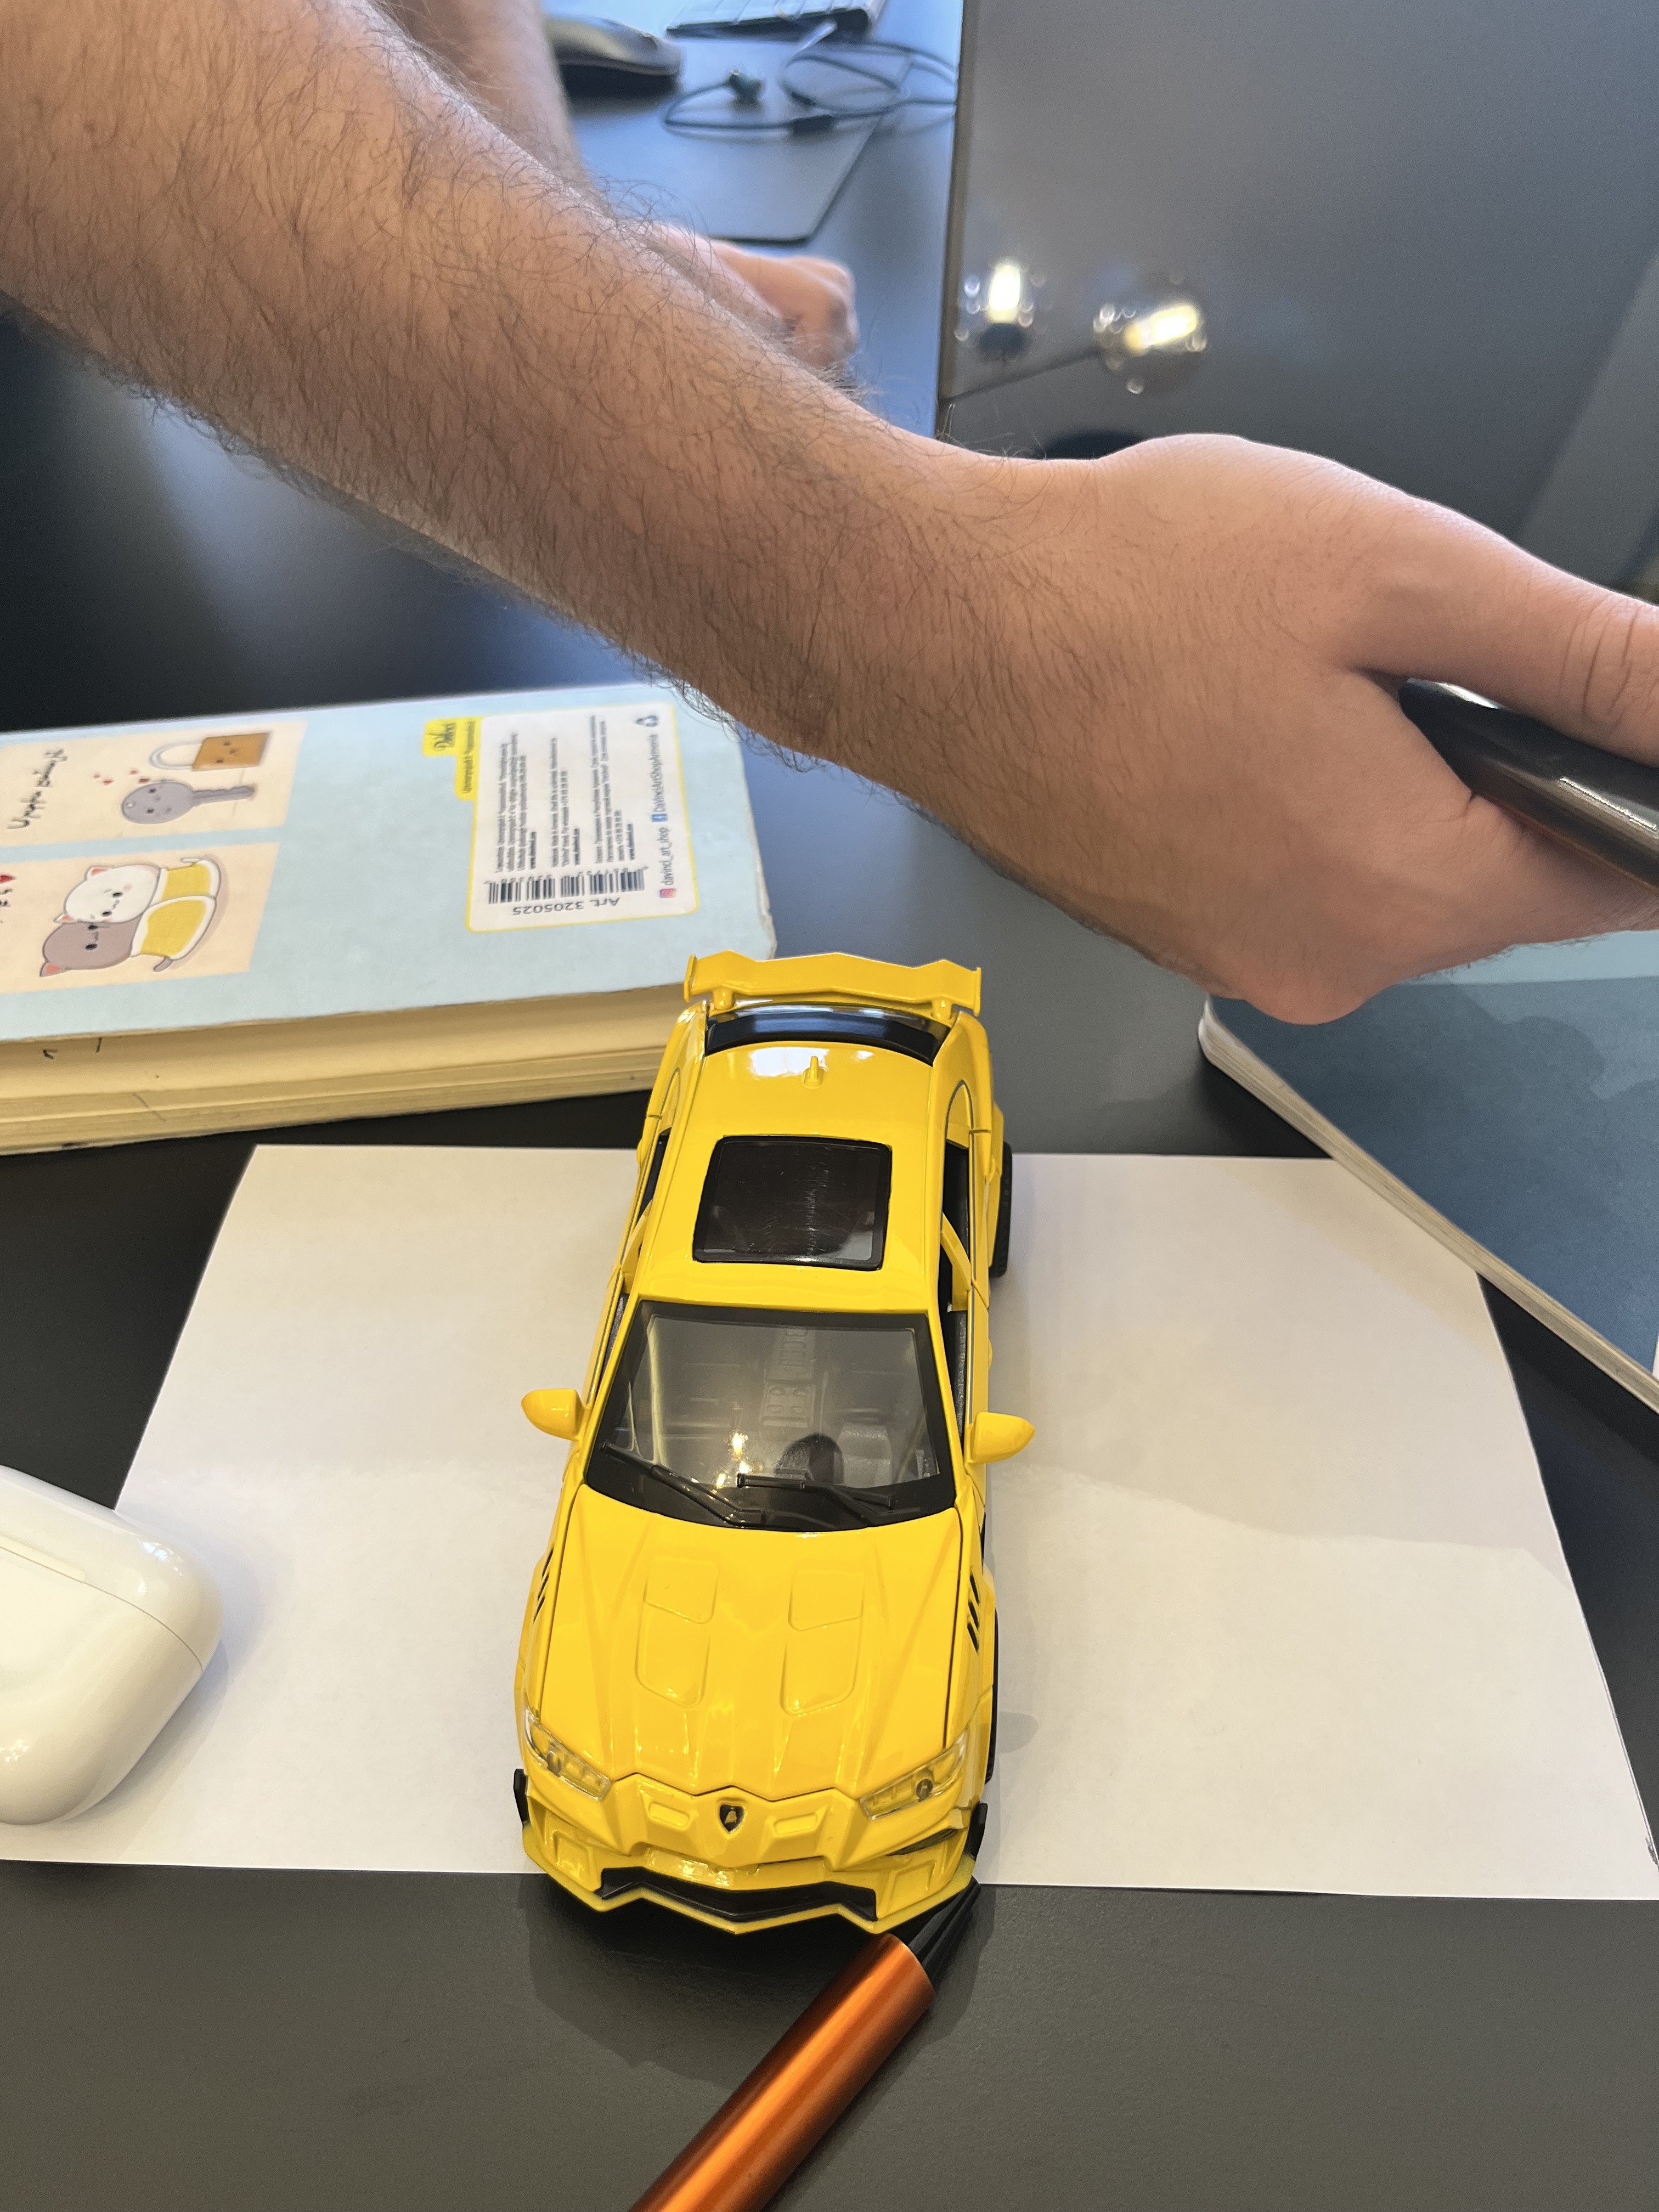lambo: (511, 953, 1030, 1937)
